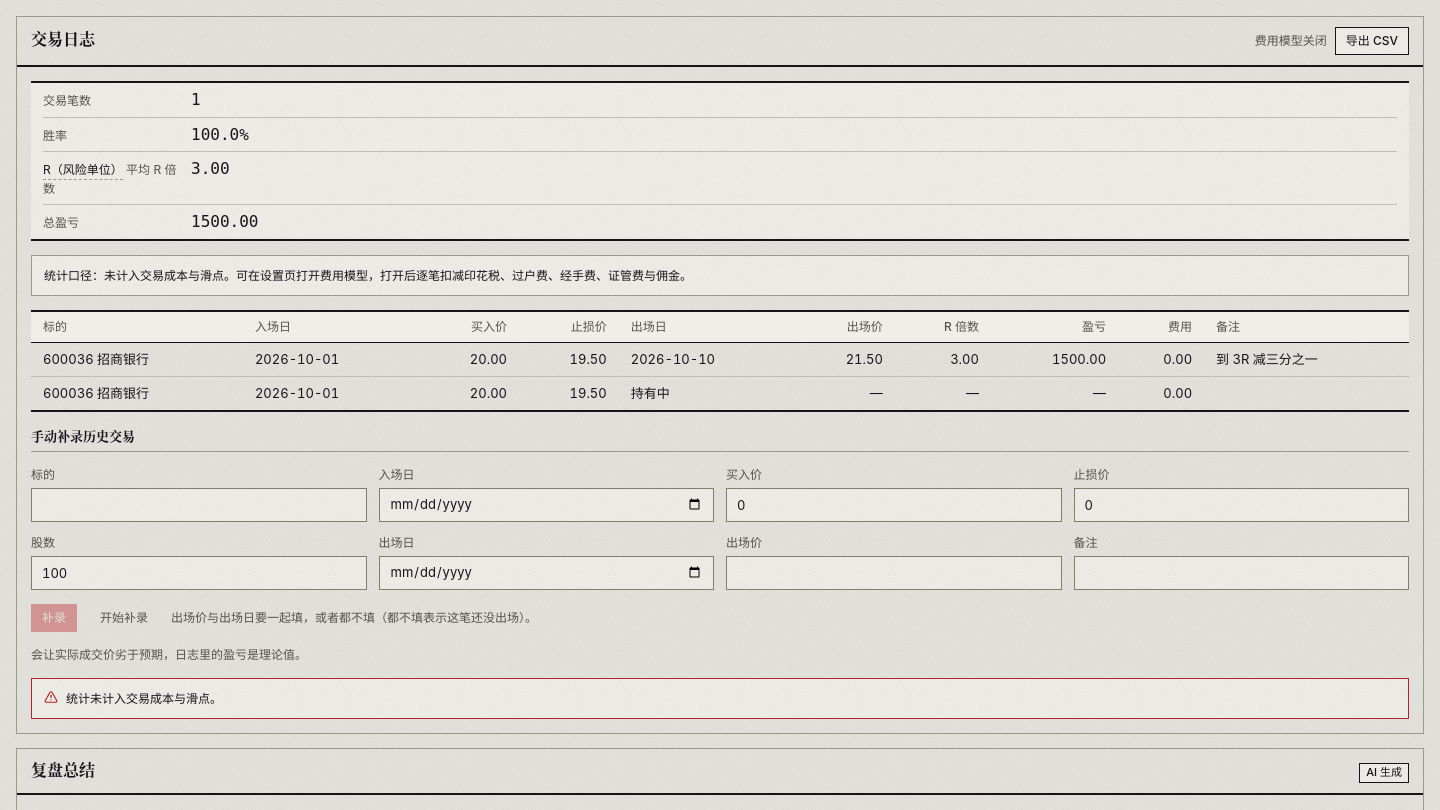
Scenario: 交易日志 › 导出 CSV
The width and height of the screenshot is (1440, 810).
Expected: the text "交易笔数" is shown, left=43, top=93, right=91, bottom=108
Click the button "导出 CSV": (1372, 41) left=1335, top=27, right=1409, bottom=55
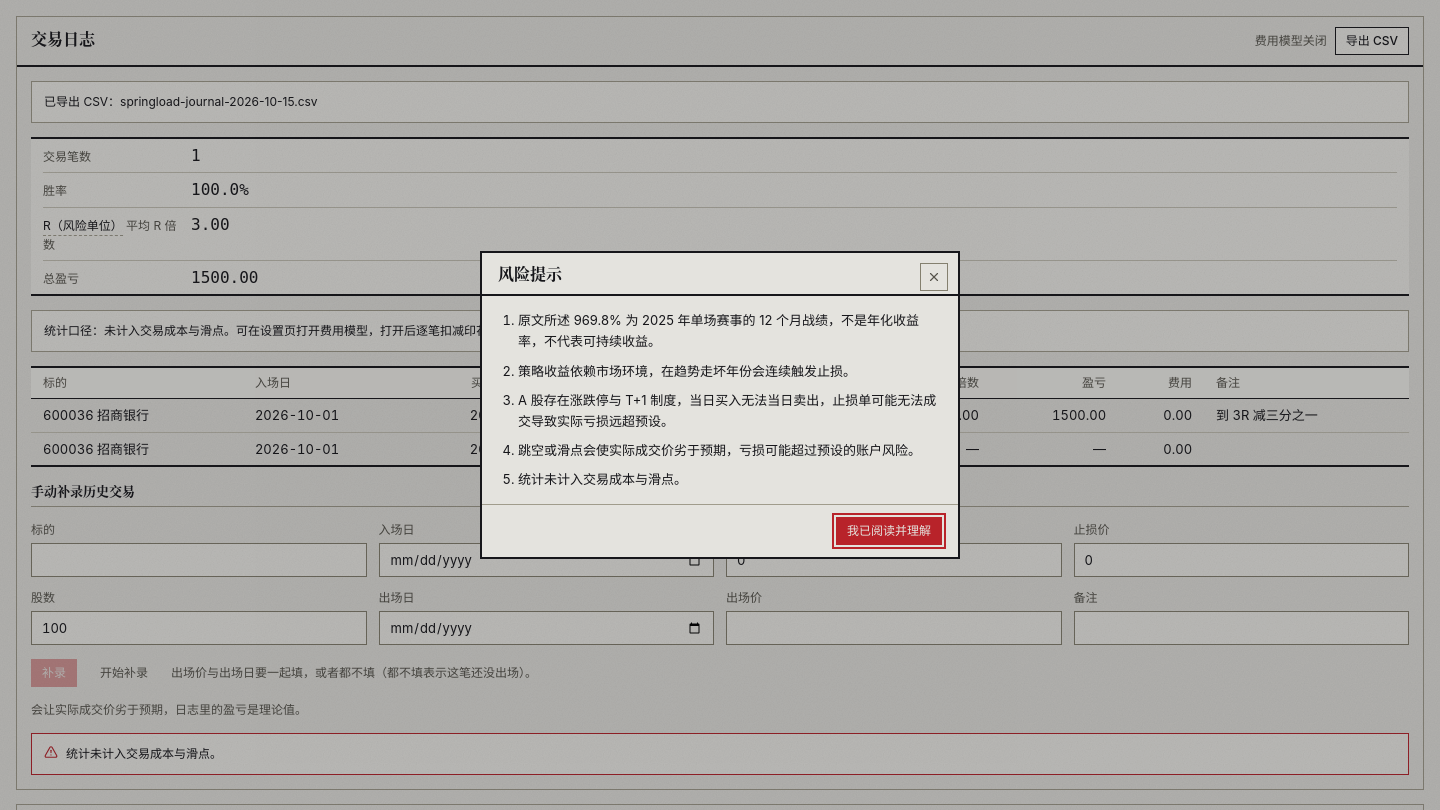
Expected: the text "已导出 CSV：springload-journal-2026-10-15.csv" is shown, left=44, top=94, right=318, bottom=109
